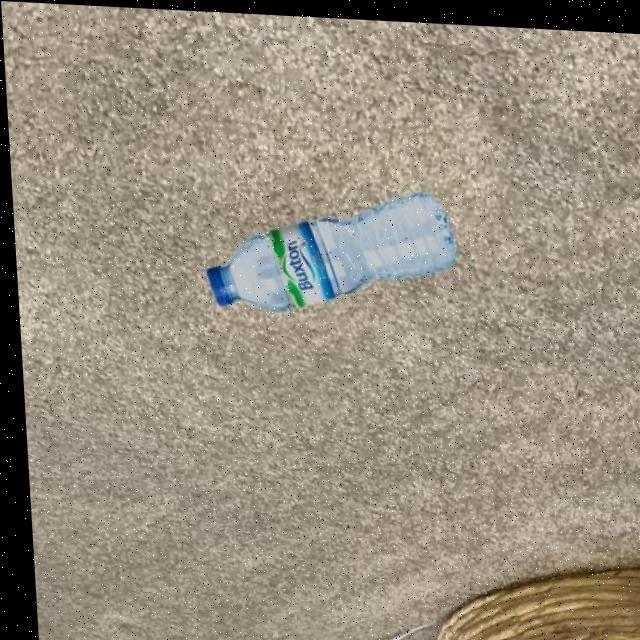bottle: (198, 178, 459, 319)
